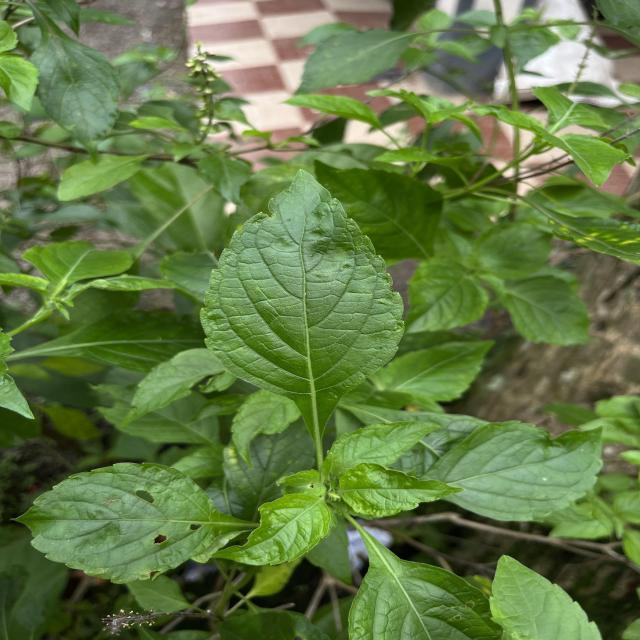Ocimum gratissimum: (196, 163, 410, 440), (7, 457, 244, 585), (341, 517, 511, 640), (428, 415, 608, 526), (208, 488, 342, 569), (336, 458, 469, 525)
